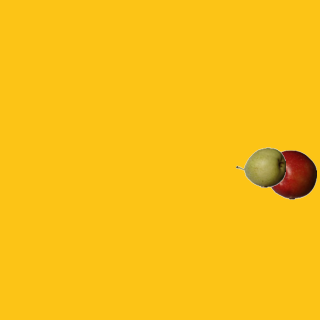Apple Braeburn: (266, 149, 316, 199)
Pear: (235, 142, 285, 192)
